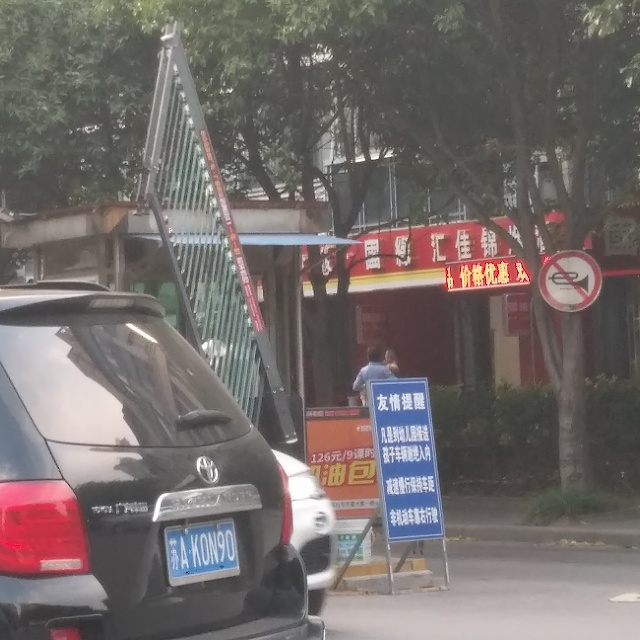nohonk: (541, 250, 609, 314)
